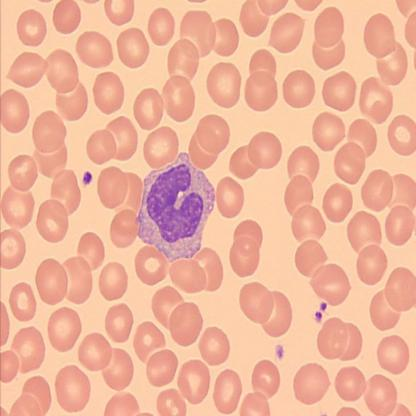Monocyte: (133, 148, 219, 264)
